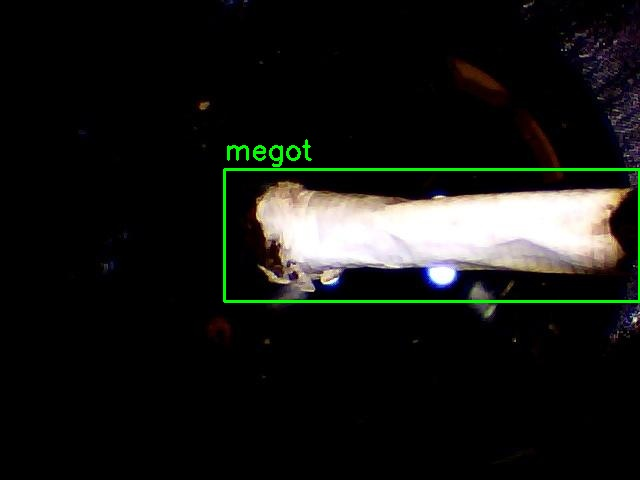megot: (224, 169, 639, 301)
